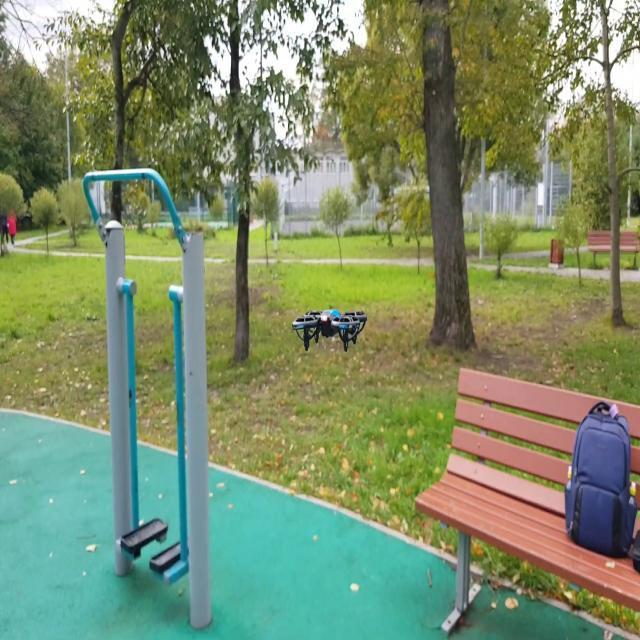Drons: (289, 302, 371, 356)
